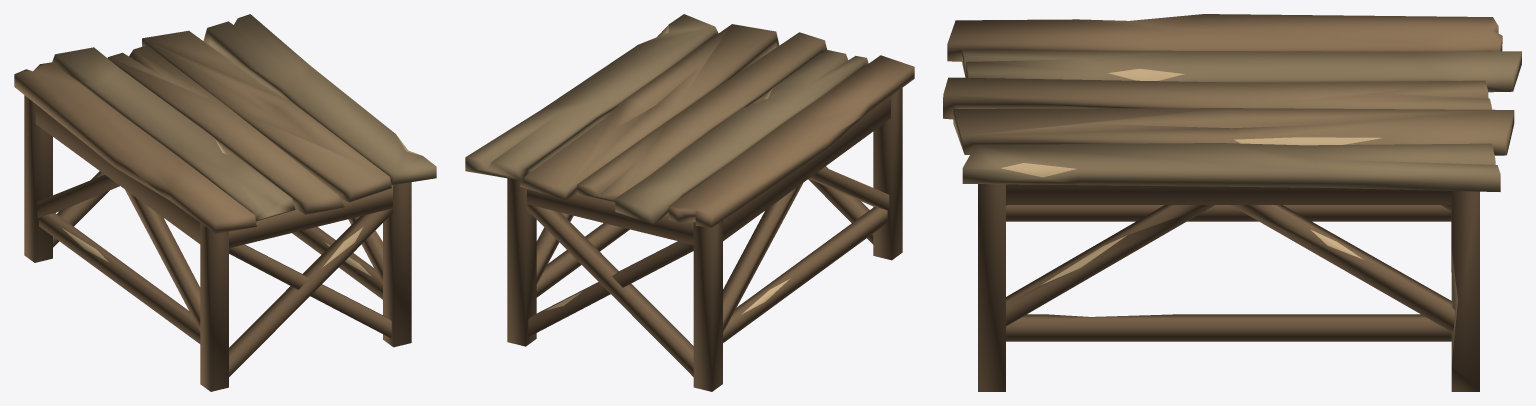
The model's file is rpgpp_ag_table_01.fbx.
The picture shows the model from 3 angles, left to right: view 1: azimuth 30°, elevation 25°; view 2: azimuth 150°, elevation 25°; view 3: azimuth 270°, elevation 25°; orthographic projection. The views are drawn at different scales.
Visible parts, largest first — view 1: rpgpp_ag_table_01; view 2: rpgpp_ag_table_01; view 3: rpgpp_ag_table_01.
Part boxes in pixels (<box>): rpgpp_ag_table_01: <box>14,14,436,391</box>; rpgpp_ag_table_01: <box>465,14,914,391</box>; rpgpp_ag_table_01: <box>943,14,1521,391</box>.
Size of the model in its own units: 1.19 by 0.8257 by 1.8.
